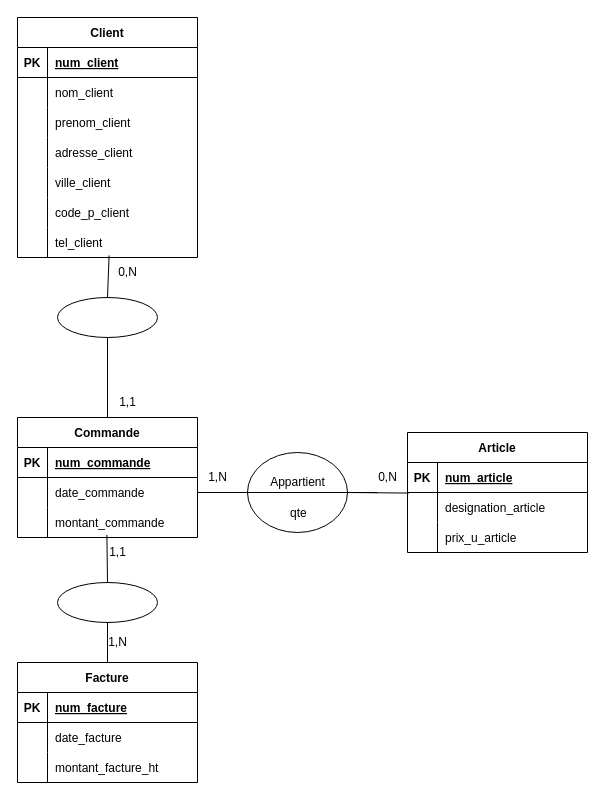
The diagram is 605 pixels wide and 800 high, and some of its shapes have lost their labels. The shapes that lost their labels are listed below. From the top down, each one's centre as x and y in pixels, then its label:
At pixel 107 317: "A effectuer".
At pixel 107 602: "Appartient à".
